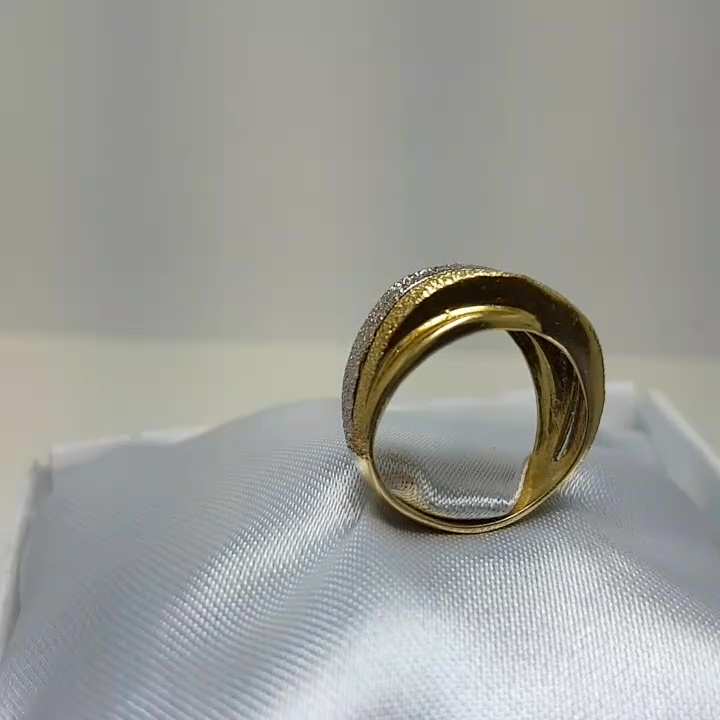Ring 5: (322, 227, 615, 572)
